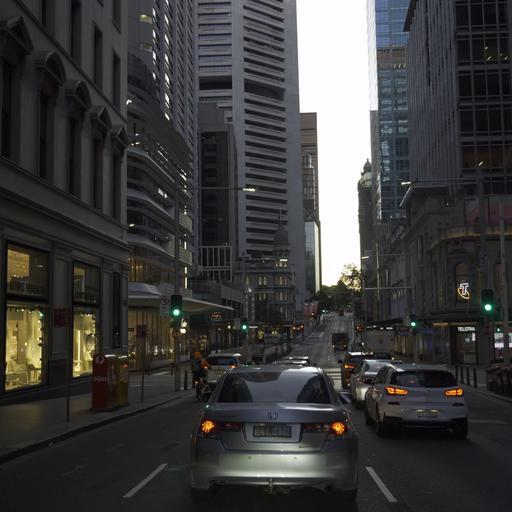Street light: (400, 160, 493, 364), (171, 182, 256, 390)
